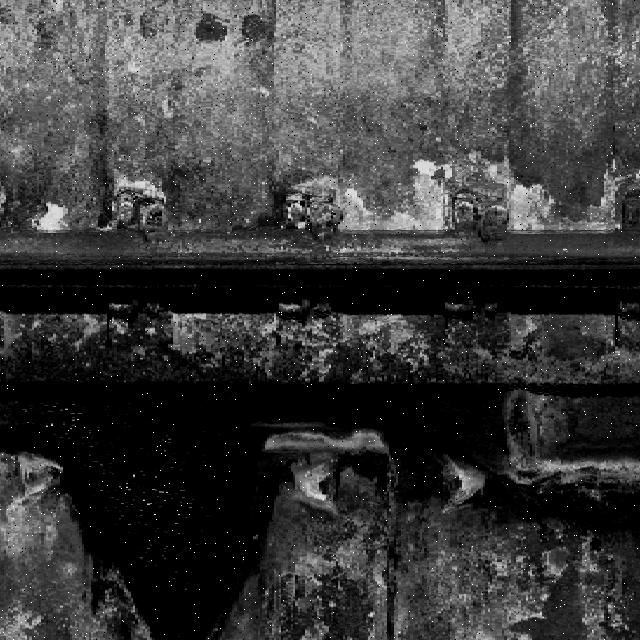leakage: (0, 389, 324, 640)
